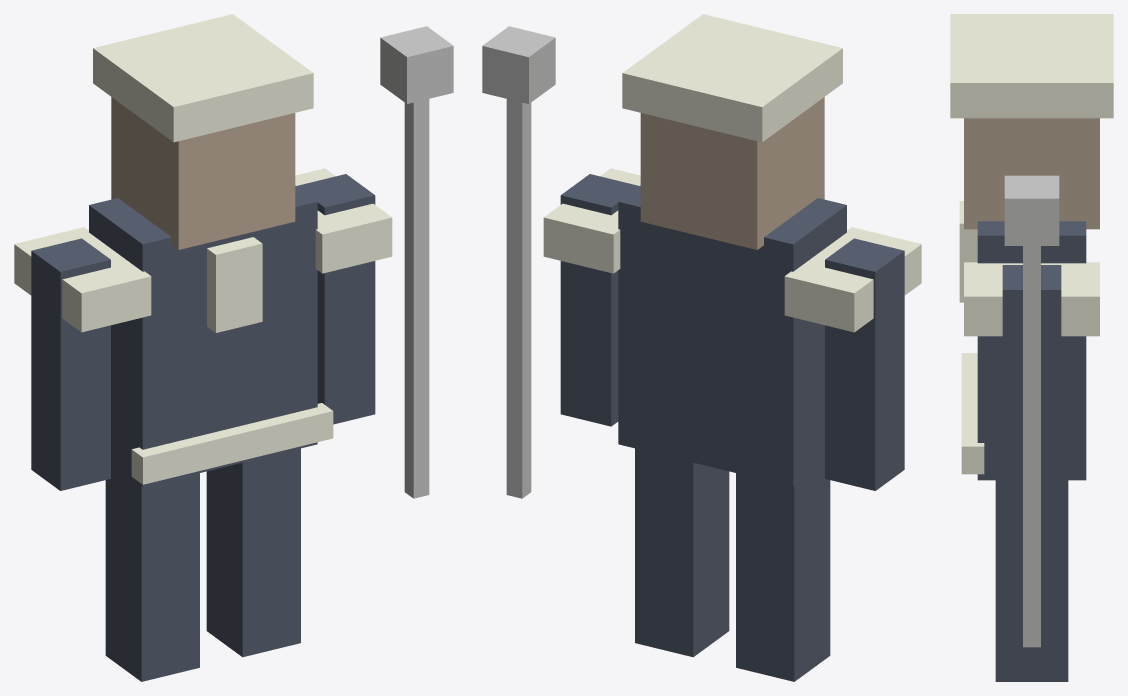
The model's file is 19_eryk_cinderholt_marshal_at_early_warning.glb.
3 views of the same model, side by side, from view 1: azimuth 30°, elevation 25°; view 2: azimuth 150°, elevation 25°; view 3: azimuth 270°, elevation 25° (orthographic).
Parts seen in each view (by area): view 1: Eryk Cinderholt, Marshal at Early-Warning; view 2: Eryk Cinderholt, Marshal at Early-Warning; view 3: Eryk Cinderholt, Marshal at Early-Warning.
Part boxes in pixels (left/top/right/bottom): Eryk Cinderholt, Marshal at Early-Warning: left=14, top=14, right=453, bottom=681; Eryk Cinderholt, Marshal at Early-Warning: left=482, top=14, right=921, bottom=681; Eryk Cinderholt, Marshal at Early-Warning: left=950, top=14, right=1113, bottom=681.
Bounding box in the file's own units: 1.11 × 1.58 × 0.3936.
